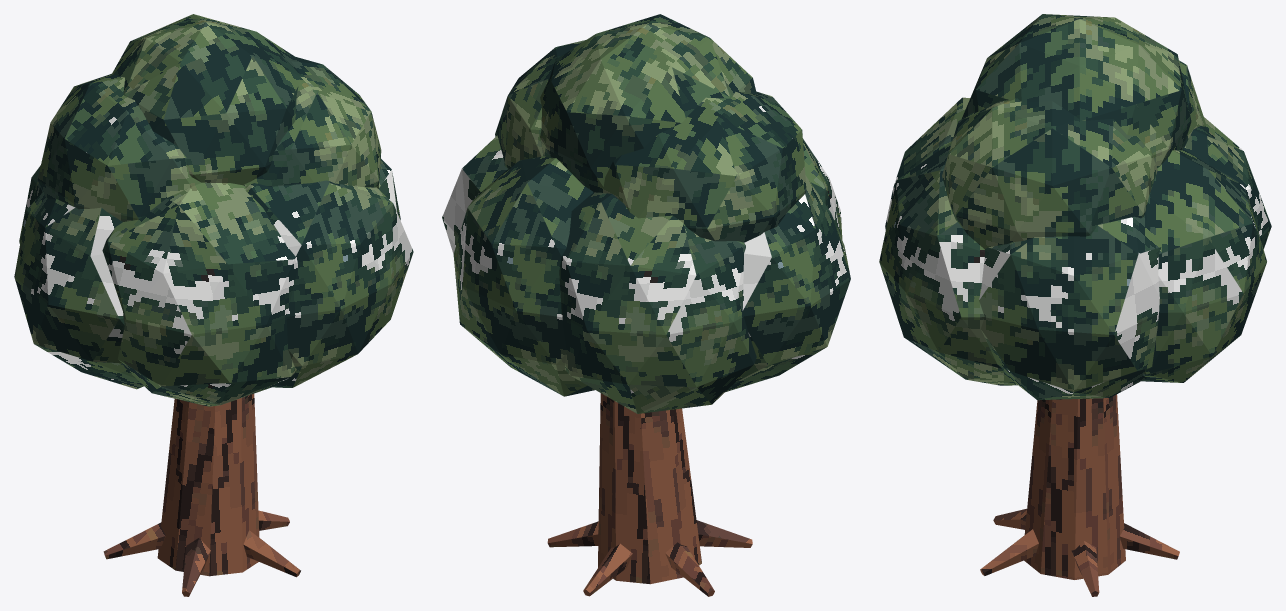
Rendered from arvore_jovem.fbx.
The picture shows the model from 3 angles, left to right: view 1: azimuth 30°, elevation 25°; view 2: azimuth 150°, elevation 25°; view 3: azimuth 270°, elevation 25°; orthographic projection.
Parts seen in each view (by area): view 1: bosque_arvore_jovem; view 2: bosque_arvore_jovem; view 3: bosque_arvore_jovem.
Boxes of the visible parts, x1=… form: bosque_arvore_jovem: x1=14, y1=14, x2=413, y2=596; bosque_arvore_jovem: x1=442, y1=14, x2=850, y2=596; bosque_arvore_jovem: x1=879, y1=14, x2=1271, y2=596.
Size of the model in its own units: 113 by 158 by 104.
Materials: 2 (2 with a texture image).
